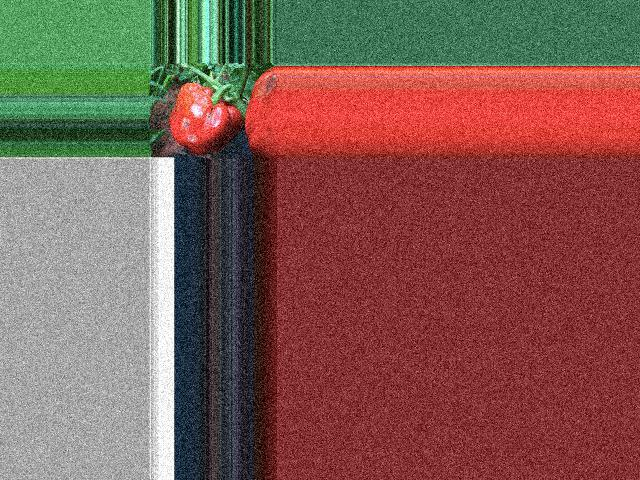bell_pepper: (172, 76, 241, 159)
